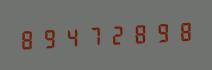eight: (17, 24, 38, 53), (127, 18, 148, 47), (171, 16, 192, 45)
four: (61, 22, 82, 51)
nine: (39, 23, 60, 52), (149, 17, 170, 46)
seven: (83, 21, 104, 50)
two: (105, 20, 126, 48)
